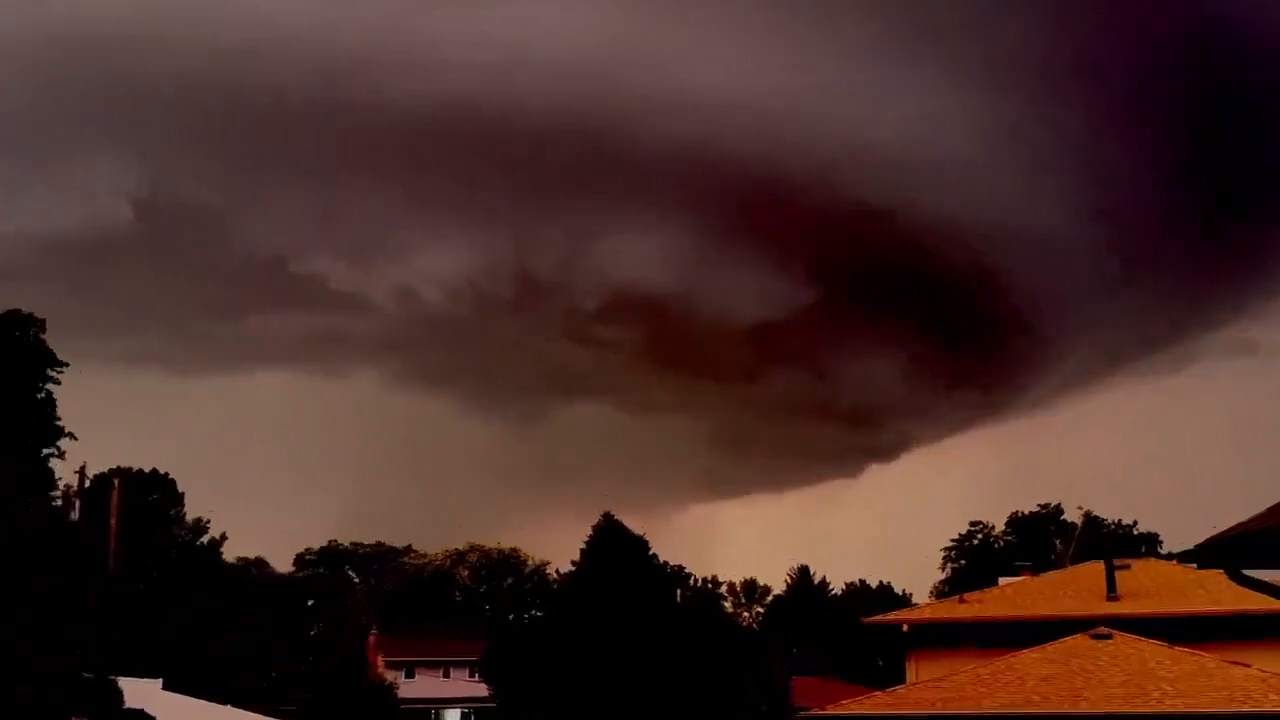FFD: (851, 306, 1279, 599)
RFD: (47, 369, 707, 575)
mesocyclone: (3, 3, 1278, 483)
striations: (136, 3, 1135, 434)
wall cloud: (2, 203, 994, 479)
